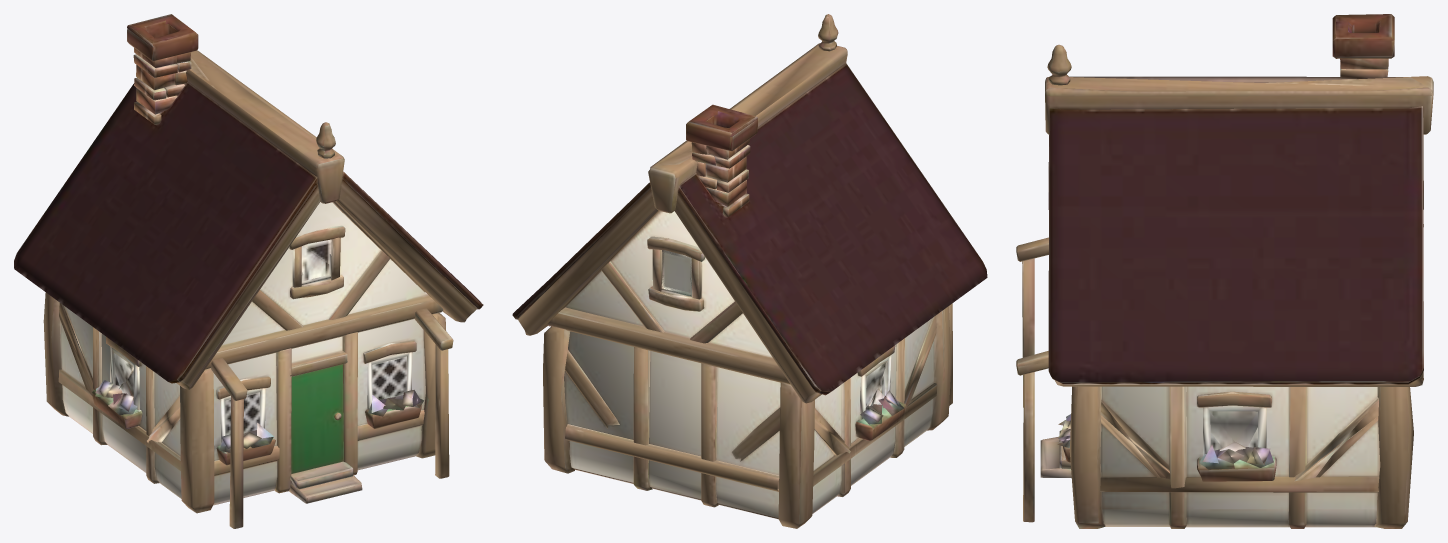
The model's file is cottage_b.glb.
3 views of the same model, side by side, from view 1: azimuth 30°, elevation 25°; view 2: azimuth 150°, elevation 25°; view 3: azimuth 270°, elevation 25° (orthographic). The views are drawn at different scales.
Bounding box in the file's own units: 0.8453 × 0.9512 × 0.8544.
Materials: 1 (1 with a texture image).
